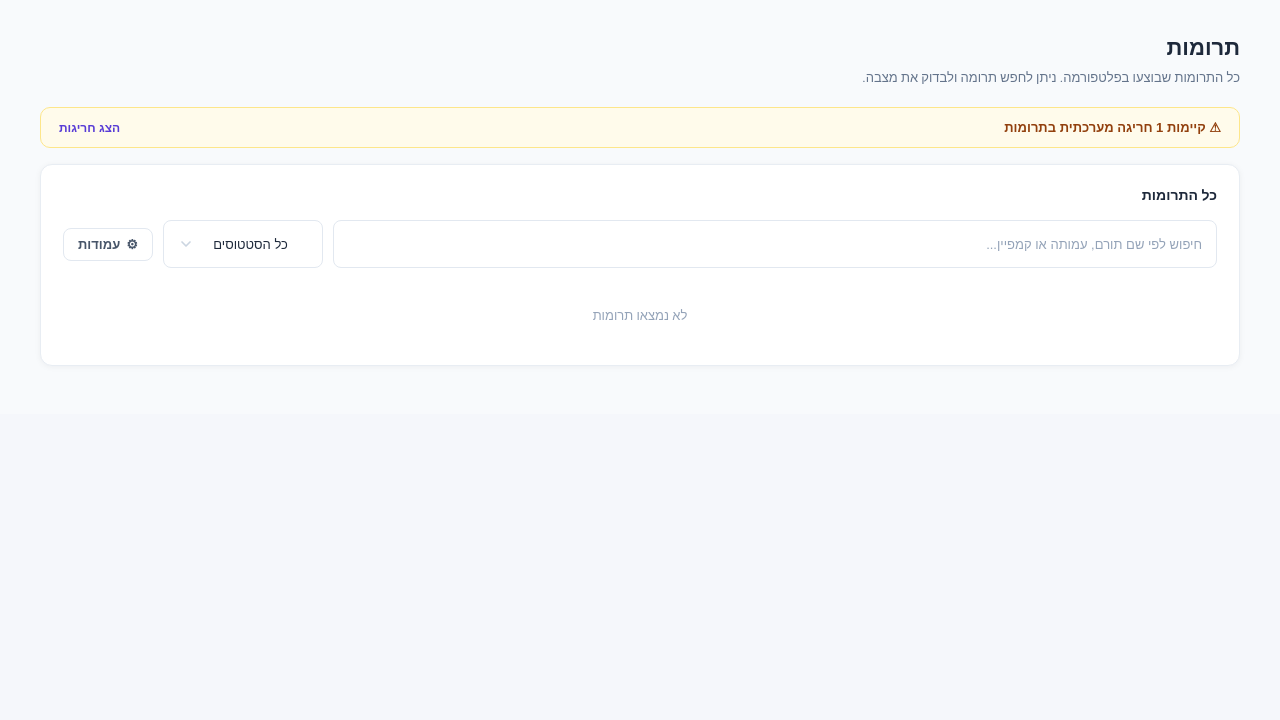
Test: PlatformCardcomOpsPageComponent - drawer donation/campaign context › falls back to a generic identifiable label (never stuck on "טוען...") if the donation endpoint fails -- e.g. a donation that was since deleted/not found
This screenshot has width=1280, height=720.
Click the button with class "ops-anomaly-bar": (1080,128) left=40, top=107, right=1240, bottom=148
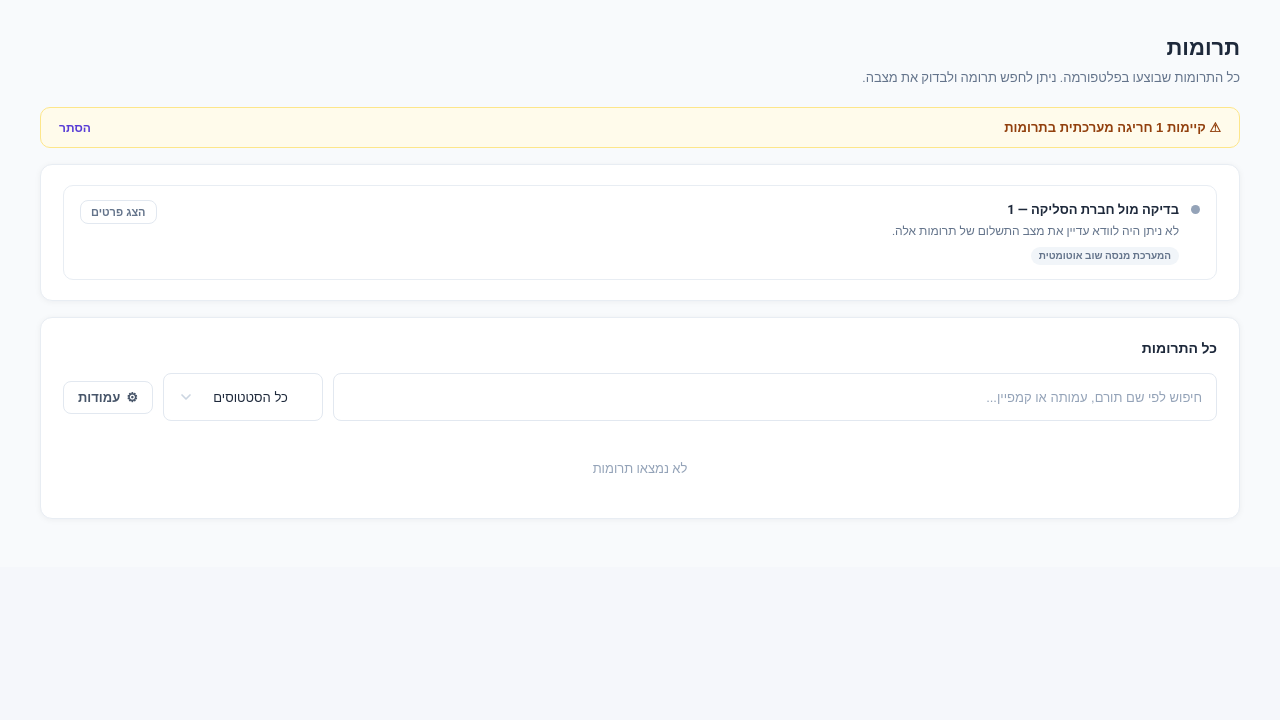
Click the button "הצג פרטים": (118,212) left=80, top=200, right=157, bottom=224
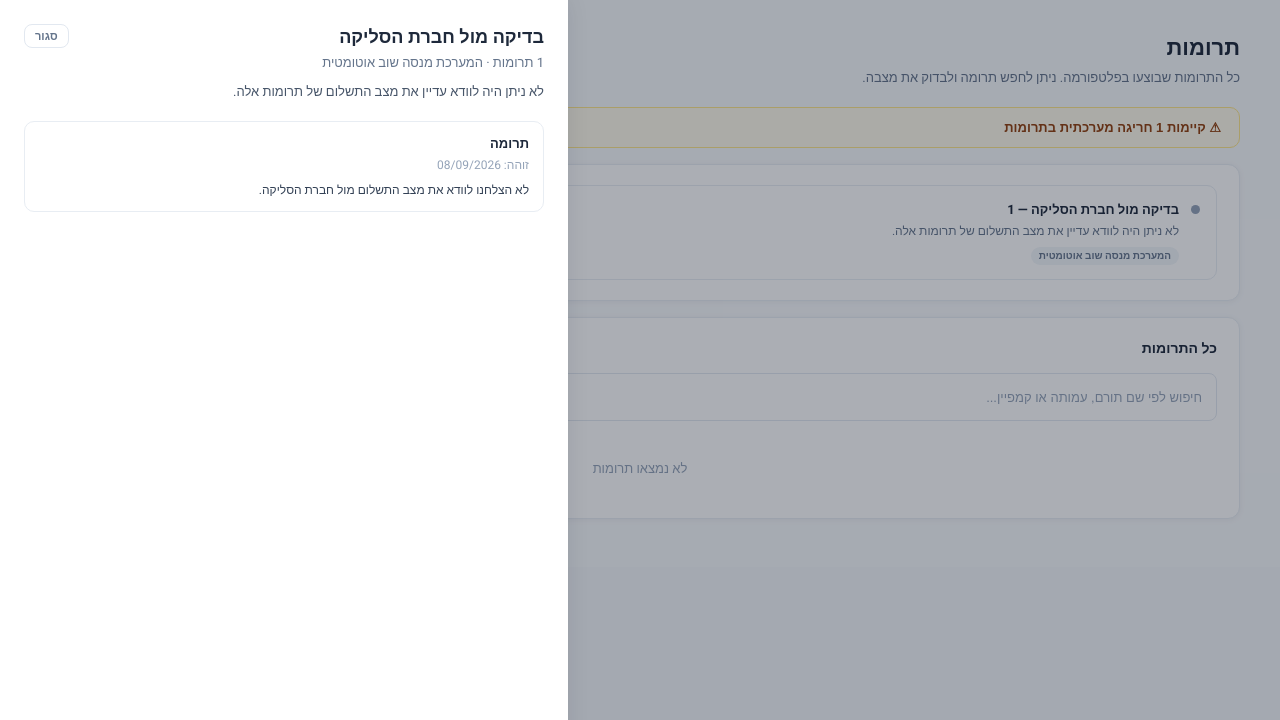
Expected: the text with class "ops-drawer-item-subject" reads "תרומה", left=490, top=134, right=529, bottom=153
